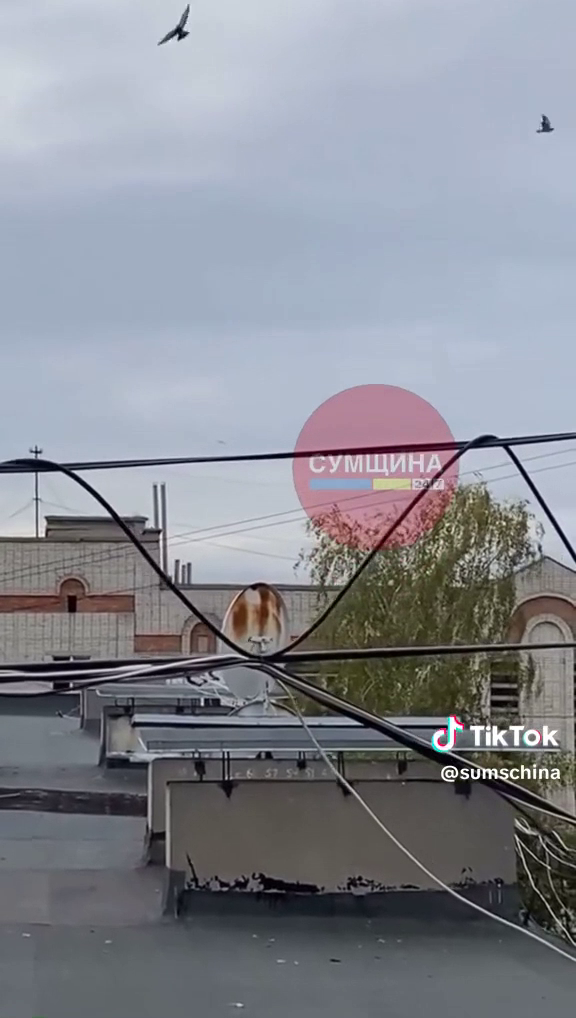not_drone: (154, 2, 198, 52)
